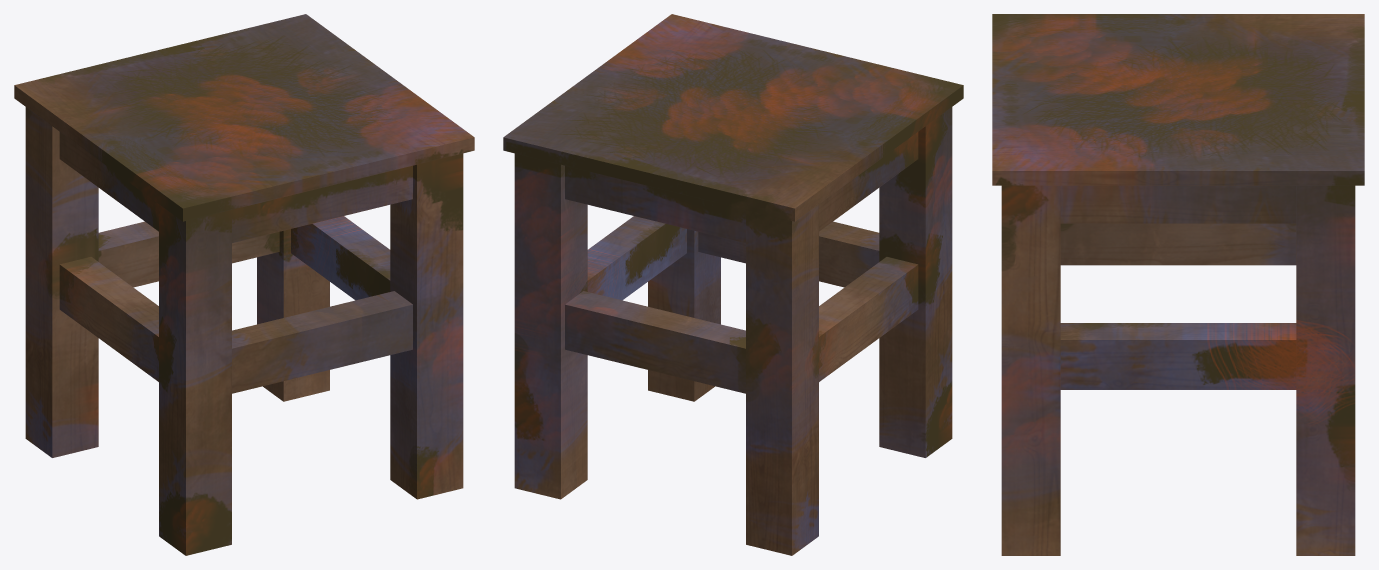
The model's file is stool.glb.
The picture shows the model from 3 angles, left to right: view 1: azimuth 30°, elevation 25°; view 2: azimuth 150°, elevation 25°; view 3: azimuth 270°, elevation 25°; orthographic projection. The views are drawn at different scales.
Visible parts, largest first — view 1: stool; view 2: stool; view 3: stool.
Part boxes in pixels (<box>): stool: <box>14,14,474,555</box>; stool: <box>503,14,963,555</box>; stool: <box>992,14,1364,555</box>.
Size of the model in its own units: 2.1 by 2.43 by 2.1.
Materials: 1 (1 with a texture image).
